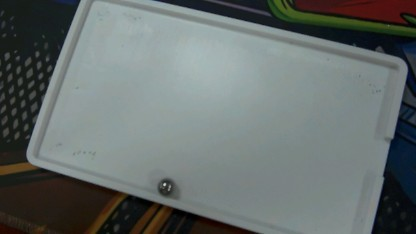ironball: (153, 174, 176, 197)
